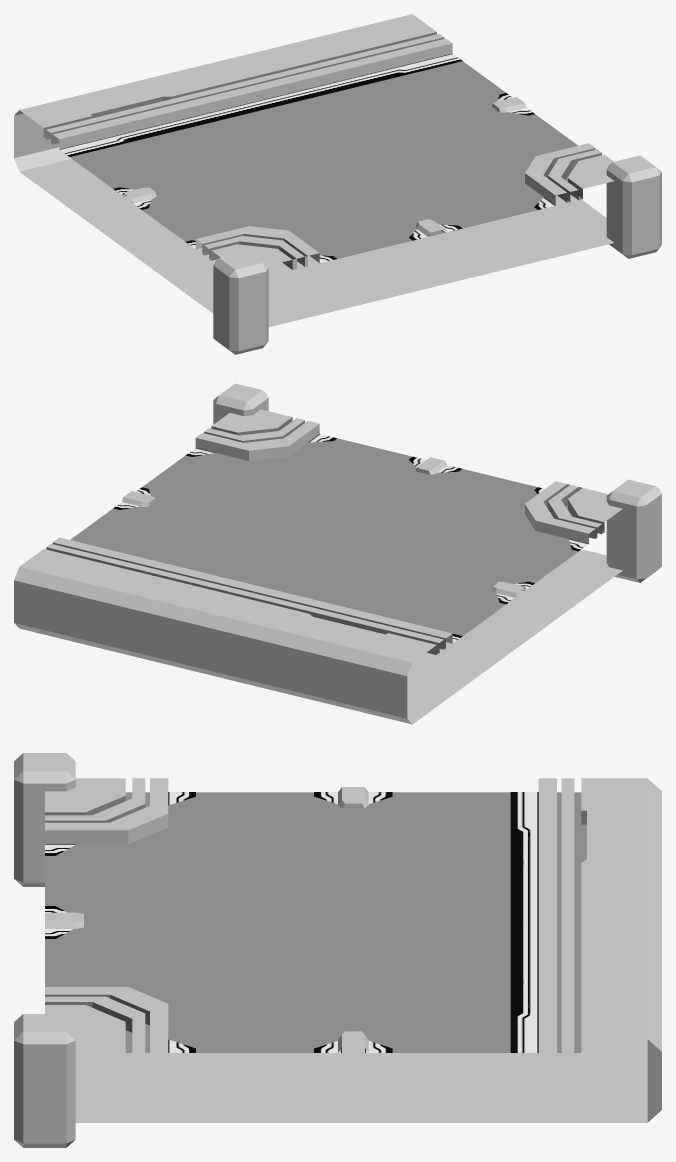
The model's file is Street_02_T_Section.fbx.
3 renders of one model, top to bottom at view 1: azimuth 30°, elevation 25°; view 2: azimuth 150°, elevation 25°; view 3: azimuth 270°, elevation 25°, orthographic. The views are drawn at different scales.
Parts seen in each view (by area): view 1: Street_02, Street_02_Decal_Text; view 2: Street_02, Street_02_Decal_Text; view 3: Street_02, Street_02_Decal_Text.
Part boxes in pixels (left/top/right/bottom): Street_02: left=14, top=14, right=661, bottom=354; Street_02_Decal_Text: left=60, top=53, right=555, bottom=263; Street_02: left=14, top=383, right=661, bottom=724; Street_02_Decal_Text: left=113, top=434, right=588, bottom=643; Street_02: left=14, top=753, right=661, bottom=1147; Street_02_Decal_Text: left=45, top=792, right=538, bottom=1052.
Bounding box in the file's own units: 22 × 4.14 × 21.
